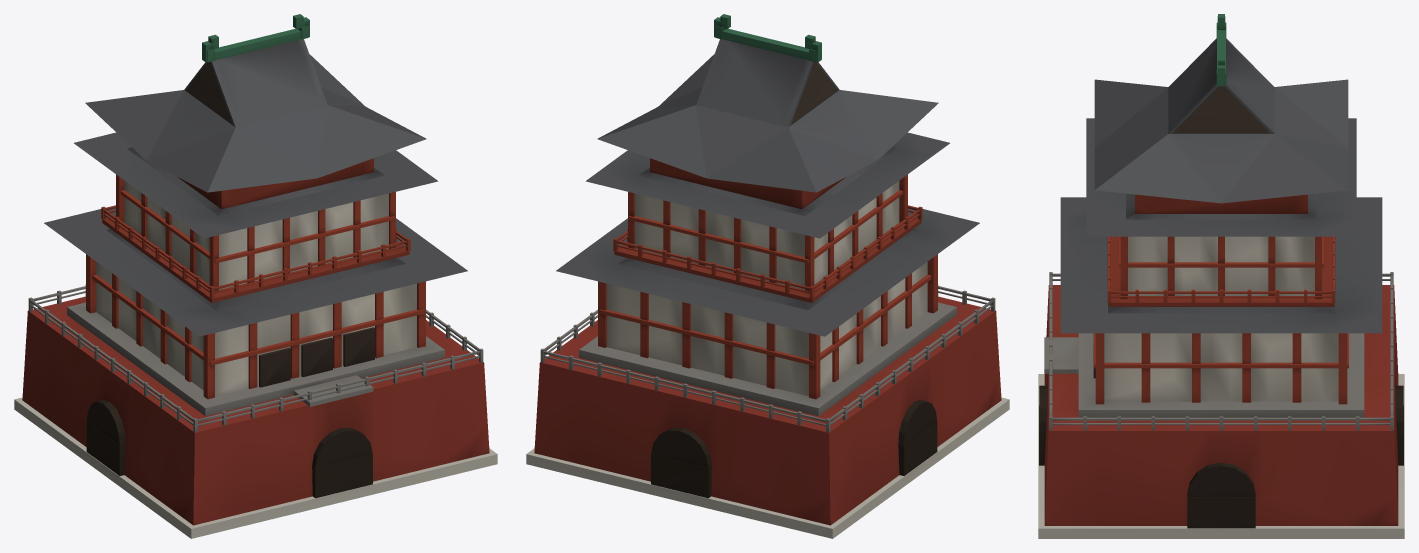
Rendered from bell-tower-1450.glb.
3 renders of one model, left to right at view 1: azimuth 30°, elevation 25°; view 2: azimuth 150°, elevation 25°; view 3: azimuth 270°, elevation 25°, orthographic. The views are drawn at different scales.
Visible parts, largest first — view 1: p0_base, p2_roofs, p1_halls; view 2: p0_base, p2_roofs, p1_halls; view 3: p2_roofs, p0_base, p1_halls.
Part boxes in pixels (x1,y1,x2,y2): p0_base: (14,284,497,538); p2_roofs: (44,14,467,336); p1_halls: (67,174,444,416); p0_base: (526,284,1009,538); p2_roofs: (556,14,979,336); p1_halls: (579,174,956,416); p2_roofs: (1060,14,1382,333); p0_base: (1038,272,1404,538); p1_halls: (1044,236,1364,417).
Size of the model in its own units: 32 by 40.93 by 32.
